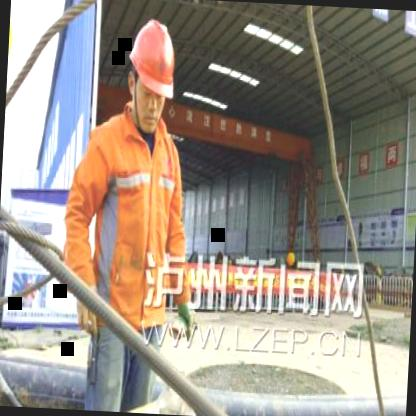helmet: (121, 11, 180, 142)
